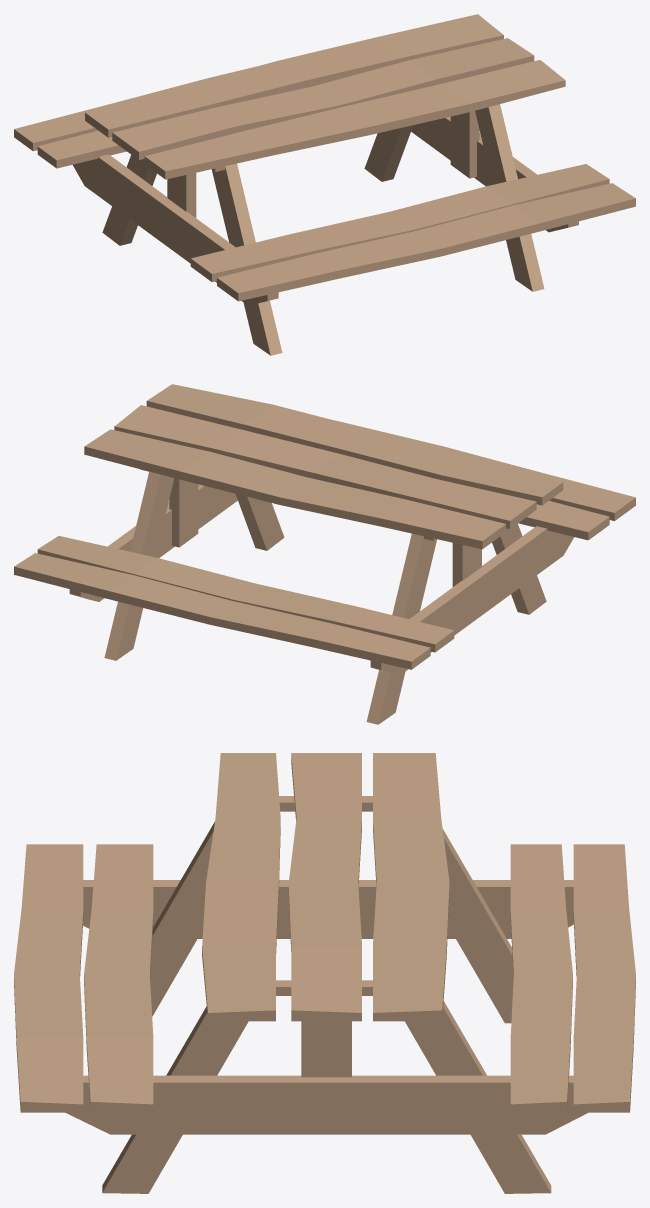
The model's file is Picnic Table.glb.
3 renders of one model, top to bottom at view 1: azimuth 30°, elevation 25°; view 2: azimuth 150°, elevation 25°; view 3: azimuth 270°, elevation 25°, orthographic. The views are drawn at different scales.
Parts seen in each view (by area): view 1: Bench; view 2: Bench; view 3: Bench.
Boxes of the visible parts, bbox=[...] form: Bench: bbox=[14, 14, 635, 355]; Bench: bbox=[14, 384, 635, 724]; Bench: bbox=[14, 753, 635, 1193].
Size of the model in its own units: 2.17 by 0.8766 by 2.21.
